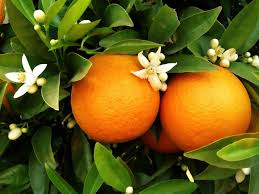orange: (71, 50, 160, 145), (161, 59, 249, 155)
